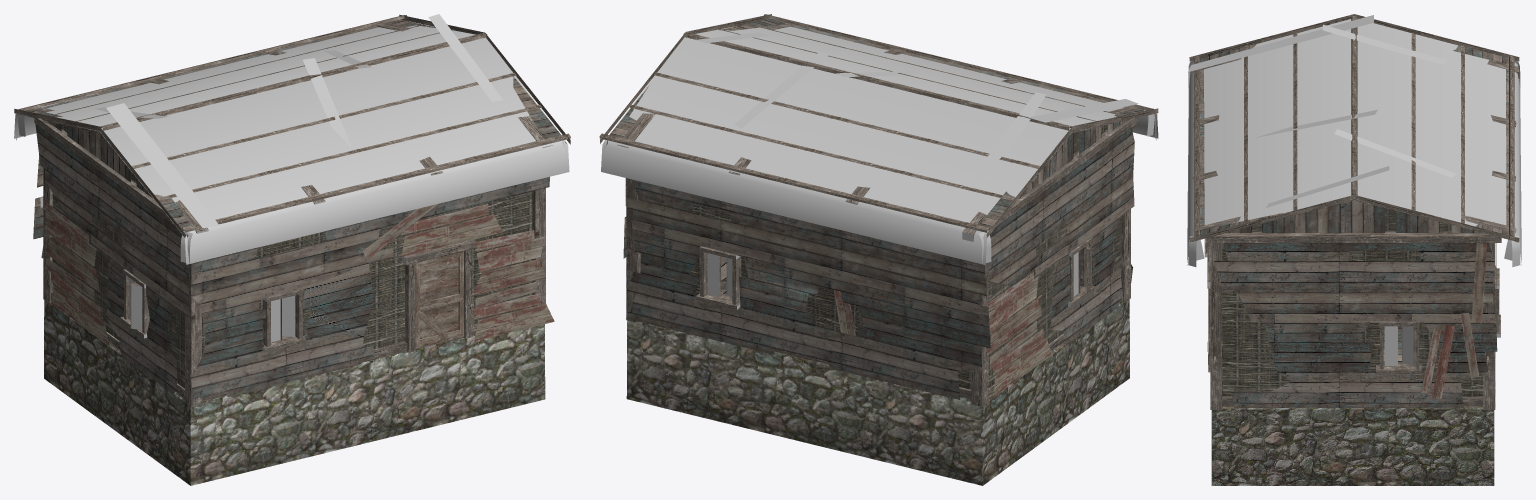
The model's file is House7_LOD2.fbx.
3 renders of one model, left to right at view 1: azimuth 30°, elevation 25°; view 2: azimuth 150°, elevation 25°; view 3: azimuth 270°, elevation 25°, orthographic. The views are drawn at different scales.
Parts seen in each view (by area): view 1: Base, Roof, Floor, Alpha, Doors; view 2: Base, Roof, Floor, Alpha; view 3: Roof, Base, Floor, Alpha.
Boxes of the visible parts, x1,y1,x2,y2 form: Base: (33, 124, 554, 407); Roof: (14, 14, 570, 237); Floor: (44, 300, 545, 485); Alpha: (14, 19, 569, 264); Doors: (415, 251, 463, 348); Base: (623, 122, 1138, 406); Roof: (599, 14, 1158, 241); Floor: (626, 257, 1129, 485); Alpha: (601, 90, 1158, 264); Roof: (1188, 14, 1519, 242); Base: (1204, 238, 1500, 409); Floor: (1211, 326, 1494, 485); Alpha: (1187, 60, 1521, 267).
Size of the model in its own units: 10.66 by 8.4 by 8.25.
